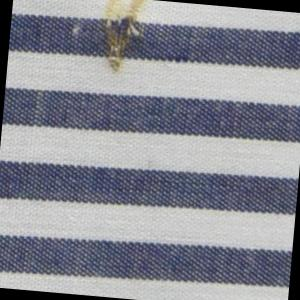Damage: (69, 18, 85, 41)
Oil Stain: (97, 1, 149, 85)
